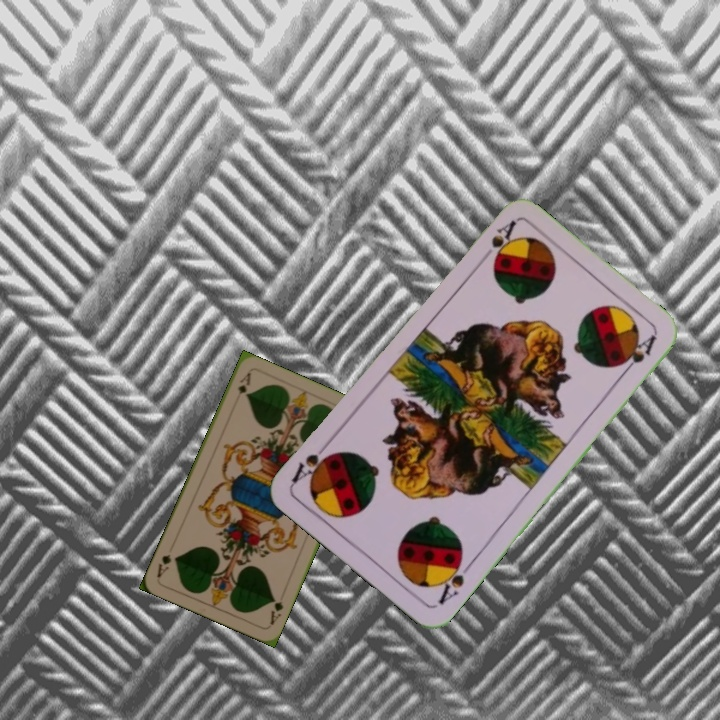GA: (231, 369, 254, 407), (265, 594, 286, 628)
SA: (433, 553, 475, 608), (487, 216, 519, 262)
